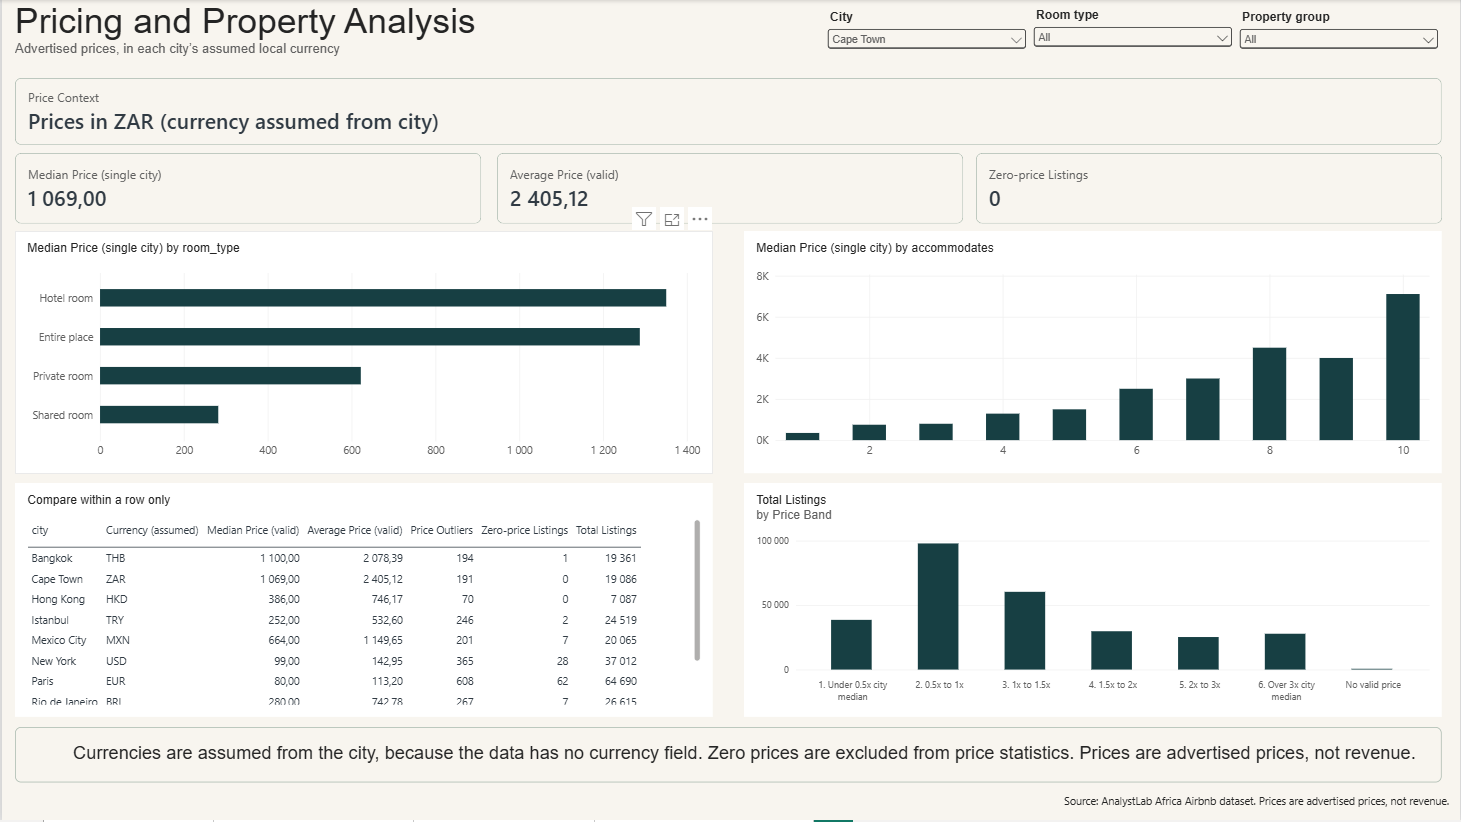

What the dashboard file says about the page in this screenshot:
{"tool":"powerbi","page":{"name":"Pricing and Property Analysis","canvas":[1920,1080],"ordinal":1},"visuals":[{"type":"cardVisual","fields":{"Data":["listings_clean.Price Context"]},"box":[17.5,84.6,1879.1,97.8],"z":0},{"type":"textbox","title":"Pricing and Property Analysis        ","box":[17.5,0,796.8,84.1],"z":1000},{"type":"textbox","box":[1398.4,1046,515.9,33.3],"z":2000},{"type":"slicer","fields":{"Values":["dim_city.city"]},"box":[977.8,11.1,271.4,101.6],"z":3000},{"type":"cardVisual","fields":{"Data":["listings_clean.Median Price (single city)"]},"box":[17.5,192.1,614.3,93.7],"z":4000},{"type":"cardVisual","fields":{"Data":["listings_clean.Average Price (valid)"]},"box":[652.4,192.1,614.3,93.7],"z":5000},{"type":"cardVisual","fields":{"Data":["listings_clean.Zero-price Listings"]},"box":[1282.5,192.1,614.3,93.7],"z":6000},{"type":"barChart","fields":{"Category":["dim_room_type.room_type"],"Y":["listings_clean.Median Price (single city)"]},"box":[17.5,304.8,919,319],"z":7000},{"type":"clusteredColumnChart","fields":{"Category":["listings_clean.accommodates"],"Y":["listings_clean.Median Price (single city)"]},"box":[977.8,304.8,919,319],"z":8000},{"type":"clusteredColumnChart","fields":{"Category":["listings_clean.Price Band"],"Y":["listings_clean.Total Listings"]},"box":[977.8,636.5,919,307.9],"z":9000},{"type":"tableEx","title":"Compare within a row only","fields":{"Values":["dim_city.city","dim_city.Currency (assumed)","listings_clean.Median Price (valid)","listings_clean.Average Price (valid)","listings_clean.Price Outliers","listings_clean.Zero-price Listings","listings_clean.Total Listings"]},"box":[17.5,636.5,919,307.9],"z":10000},{"type":"textbox","box":[17.5,957.1,1879.4,73],"z":11000},{"type":"slicer","fields":{"Values":["dim_room_type.room_type"]},"box":[1266.7,12.7,271.4,60.3],"z":12000},{"type":"slicer","fields":{"Values":["dim_property_type.property_type_group"]},"box":[1555.6,12.7,271.4,60.3],"z":13000}]}

Visuals, with their boxes in screenshot pixels (x1, y1, x2, y2), scaled from the page's 1920x1080 canvas onto the 1461x822 screenshot:
cardVisual - listings_clean.Price Context: (left=13, top=64, right=1443, bottom=139)
"Pricing and Property Analysis        " textbox: (left=13, top=0, right=620, bottom=64)
textbox: (left=1064, top=796, right=1457, bottom=821)
slicer - dim_city.city: (left=744, top=8, right=951, bottom=86)
cardVisual - listings_clean.Median Price (single city): (left=13, top=146, right=481, bottom=218)
cardVisual - listings_clean.Average Price (valid): (left=496, top=146, right=964, bottom=218)
cardVisual - listings_clean.Zero-price Listings: (left=976, top=146, right=1443, bottom=218)
barChart - dim_room_type.room_type x listings_clean.Median Price (single city): (left=13, top=232, right=713, bottom=475)
clusteredColumnChart - listings_clean.accommodates x listings_clean.Median Price (single city): (left=744, top=232, right=1443, bottom=475)
clusteredColumnChart - listings_clean.Price Band x listings_clean.Total Listings: (left=744, top=484, right=1443, bottom=719)
"Compare within a row only" tableEx: (left=13, top=484, right=713, bottom=719)
textbox: (left=13, top=728, right=1443, bottom=784)
slicer - dim_room_type.room_type: (left=964, top=10, right=1170, bottom=56)
slicer - dim_property_type.property_type_group: (left=1184, top=10, right=1390, bottom=56)
